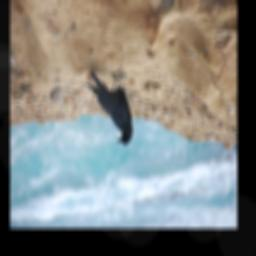Crow: (86, 68, 133, 148)
